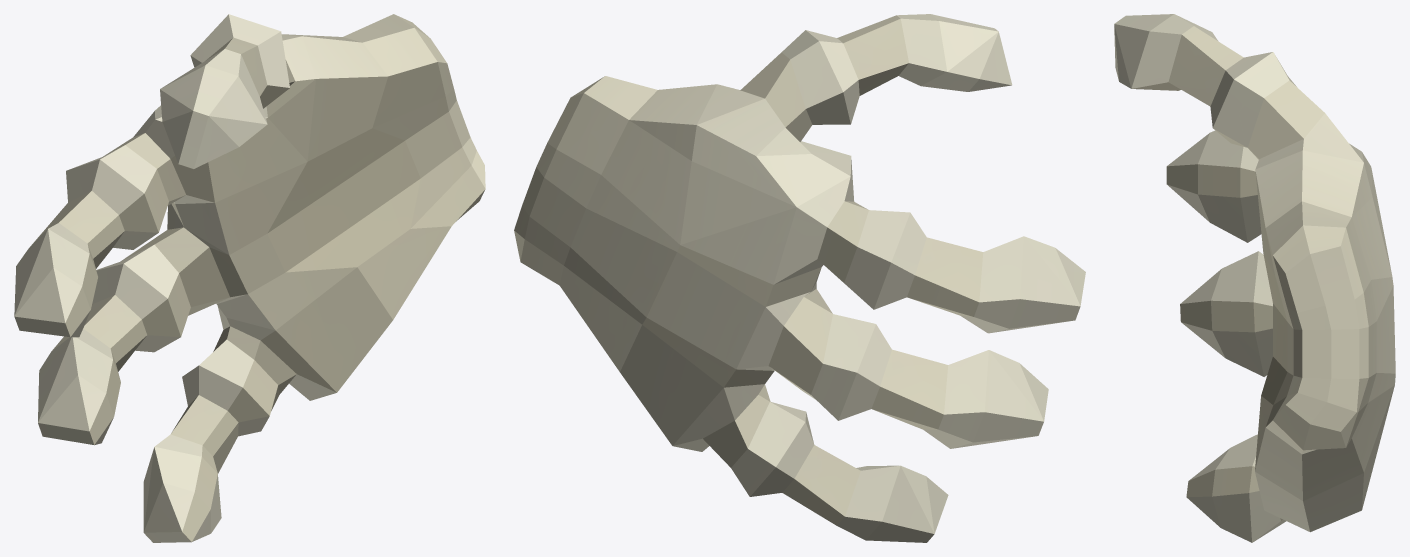
File: SM_Hand.fbx
3 renders of one model, left to right at view 1: azimuth 30°, elevation 25°; view 2: azimuth 150°, elevation 25°; view 3: azimuth 270°, elevation 25°, orthographic. The views are drawn at different scales.
Parts seen in each view (by area): view 1: SM_Hand; view 2: SM_Hand; view 3: SM_Hand.
Boxes of the visible parts, x1=… form: SM_Hand: x1=14, y1=14, x2=485, y2=542; SM_Hand: x1=514, y1=14, x2=1085, y2=542; SM_Hand: x1=1114, y1=14, x2=1395, y2=542.
Bounding box in the file's own units: 37.73 × 17.81 × 35.36.
